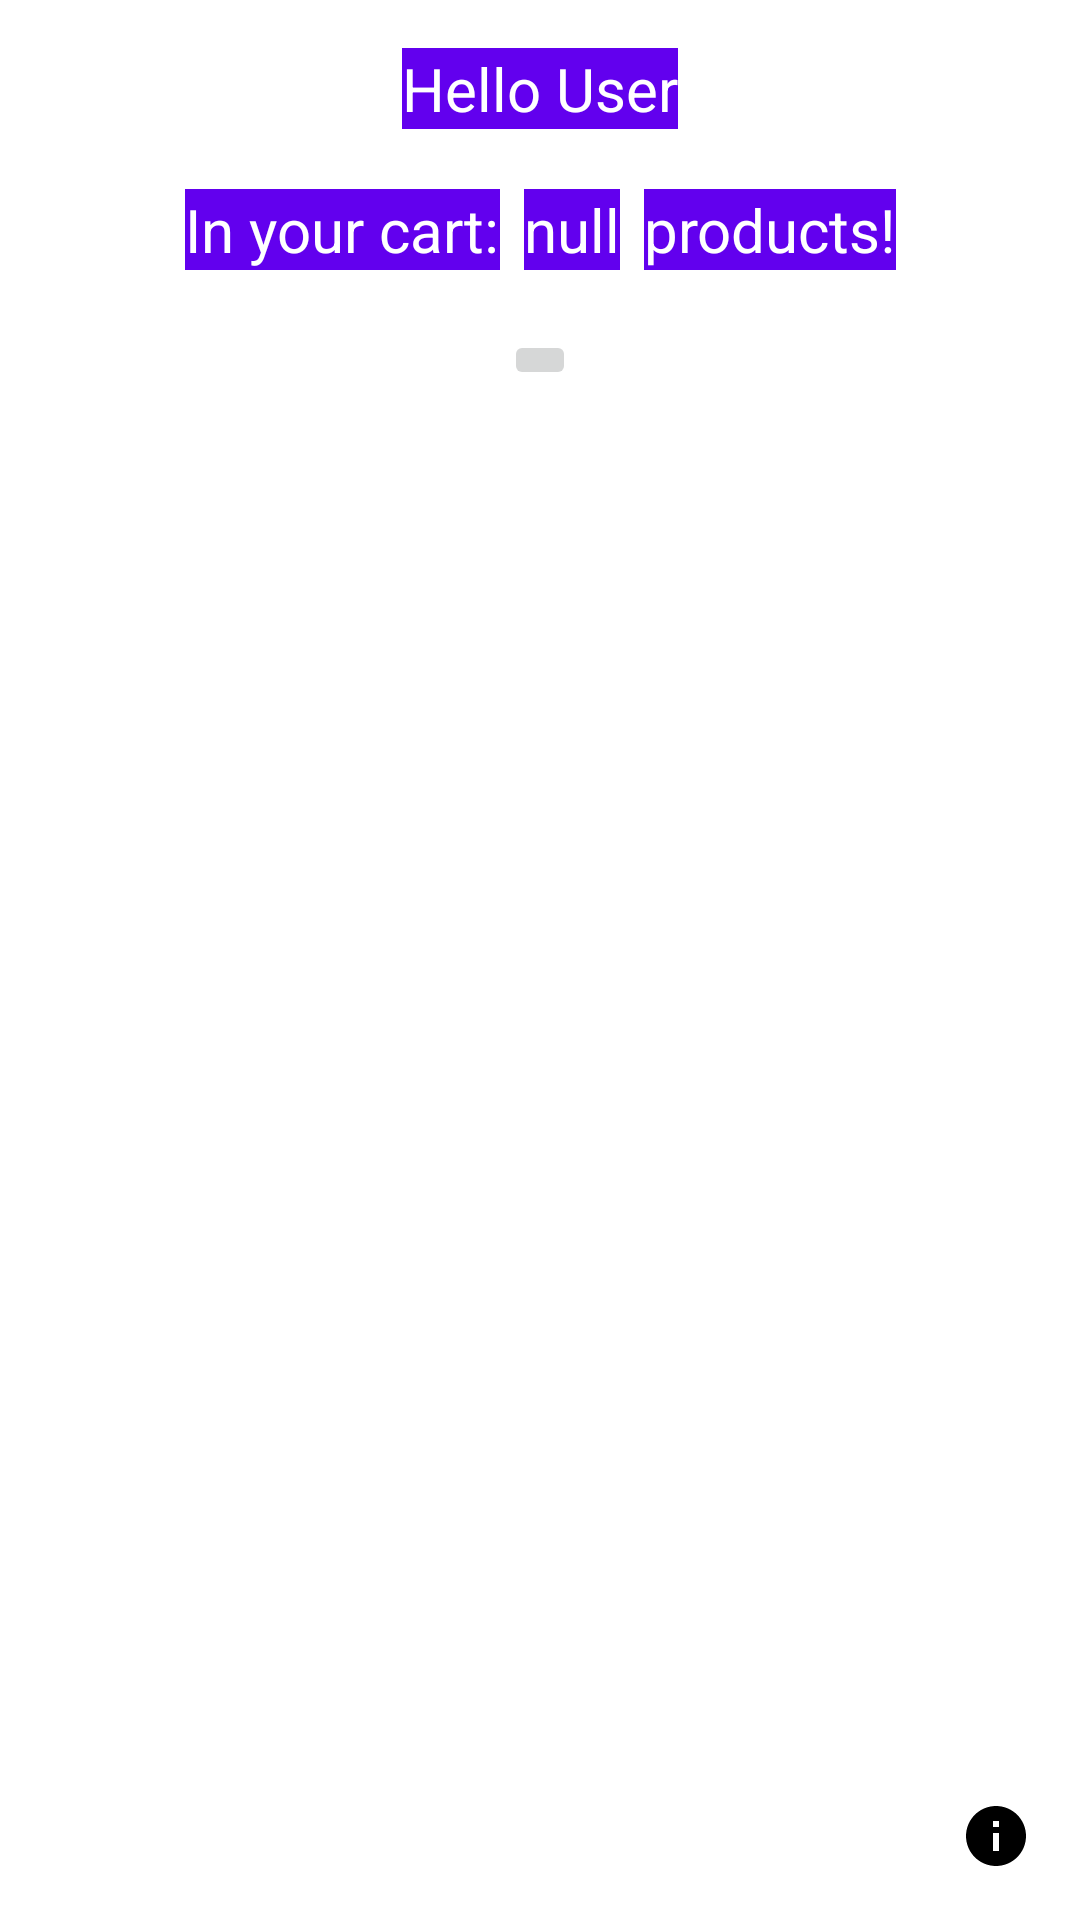

Screen size 1080w x 1920h. Icon name, then its center in pixels as [x,y]:
open information: [996,1836]
